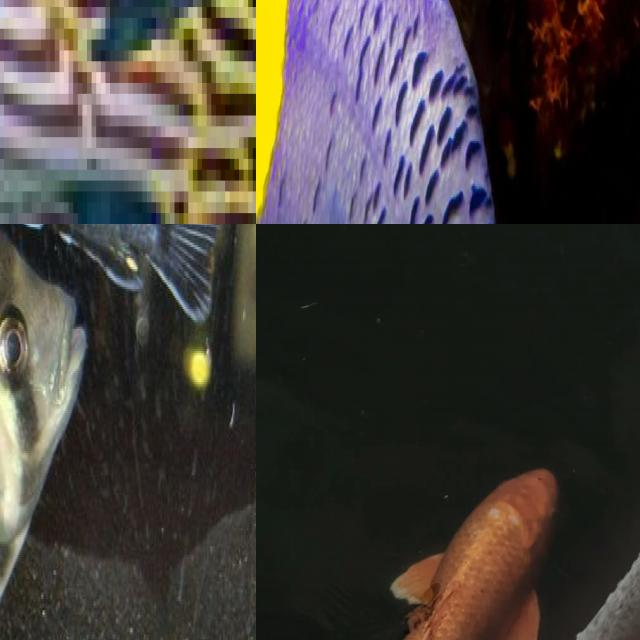fish: (284, 261, 557, 640), (256, 0, 640, 224), (0, 0, 256, 224), (0, 224, 223, 318)
